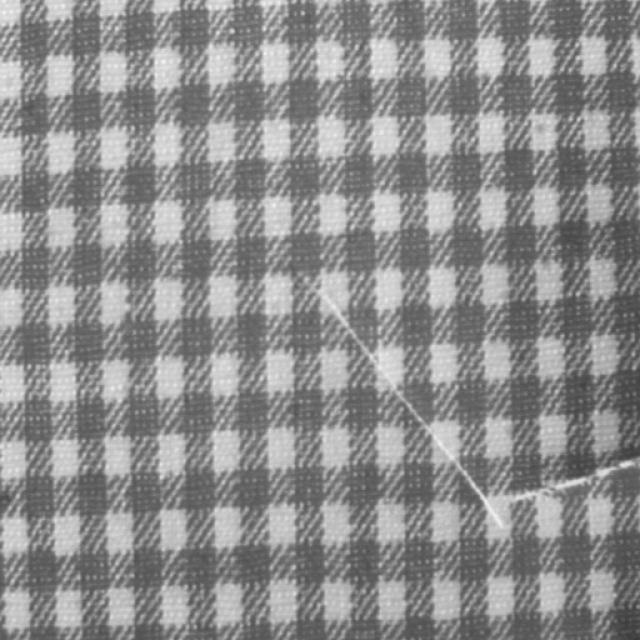Hole-Defect: (304, 280, 639, 539)
